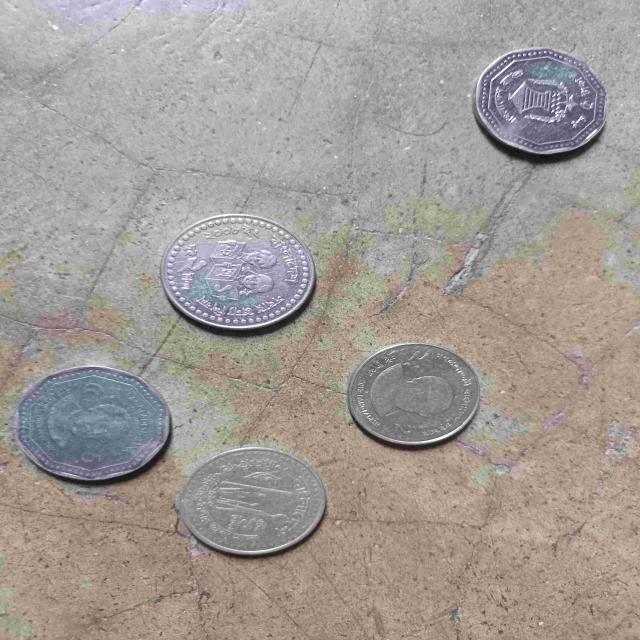1_taka: (177, 438, 327, 560)
2_taka: (130, 212, 342, 339), (345, 337, 490, 461)
5_taka: (6, 346, 179, 496), (452, 32, 618, 173)
